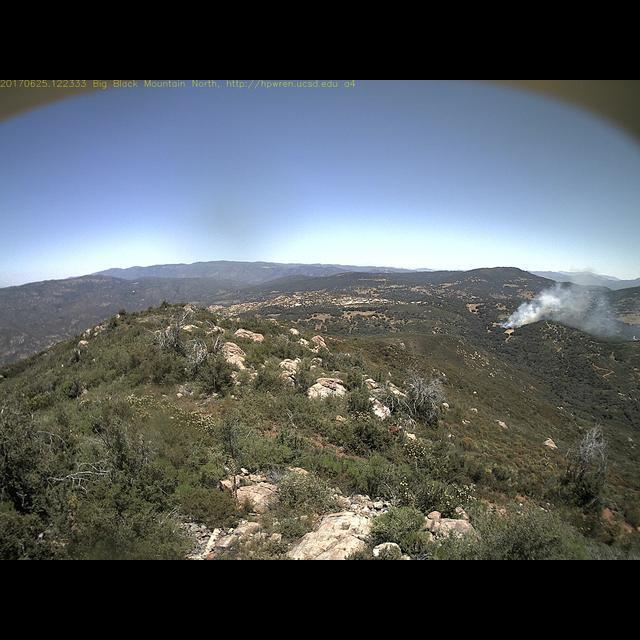Smoke: (500, 264, 636, 349)
